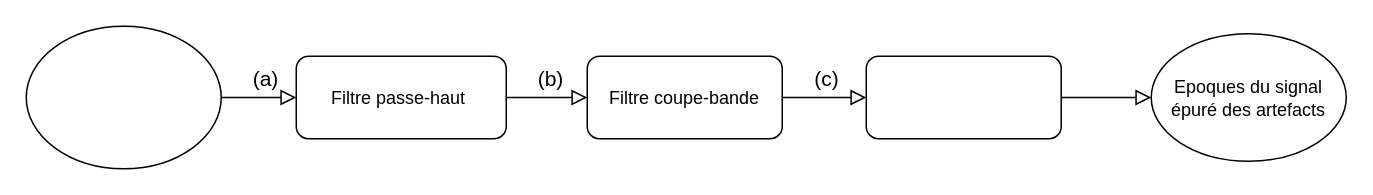
This 1373x195 diagram has some shape labels left out. Each missing label, with the centre of its shape:
Segmentation temporelle sur la base des événements: (963,97)
Séries temporelles du signal brut: (123,97)
